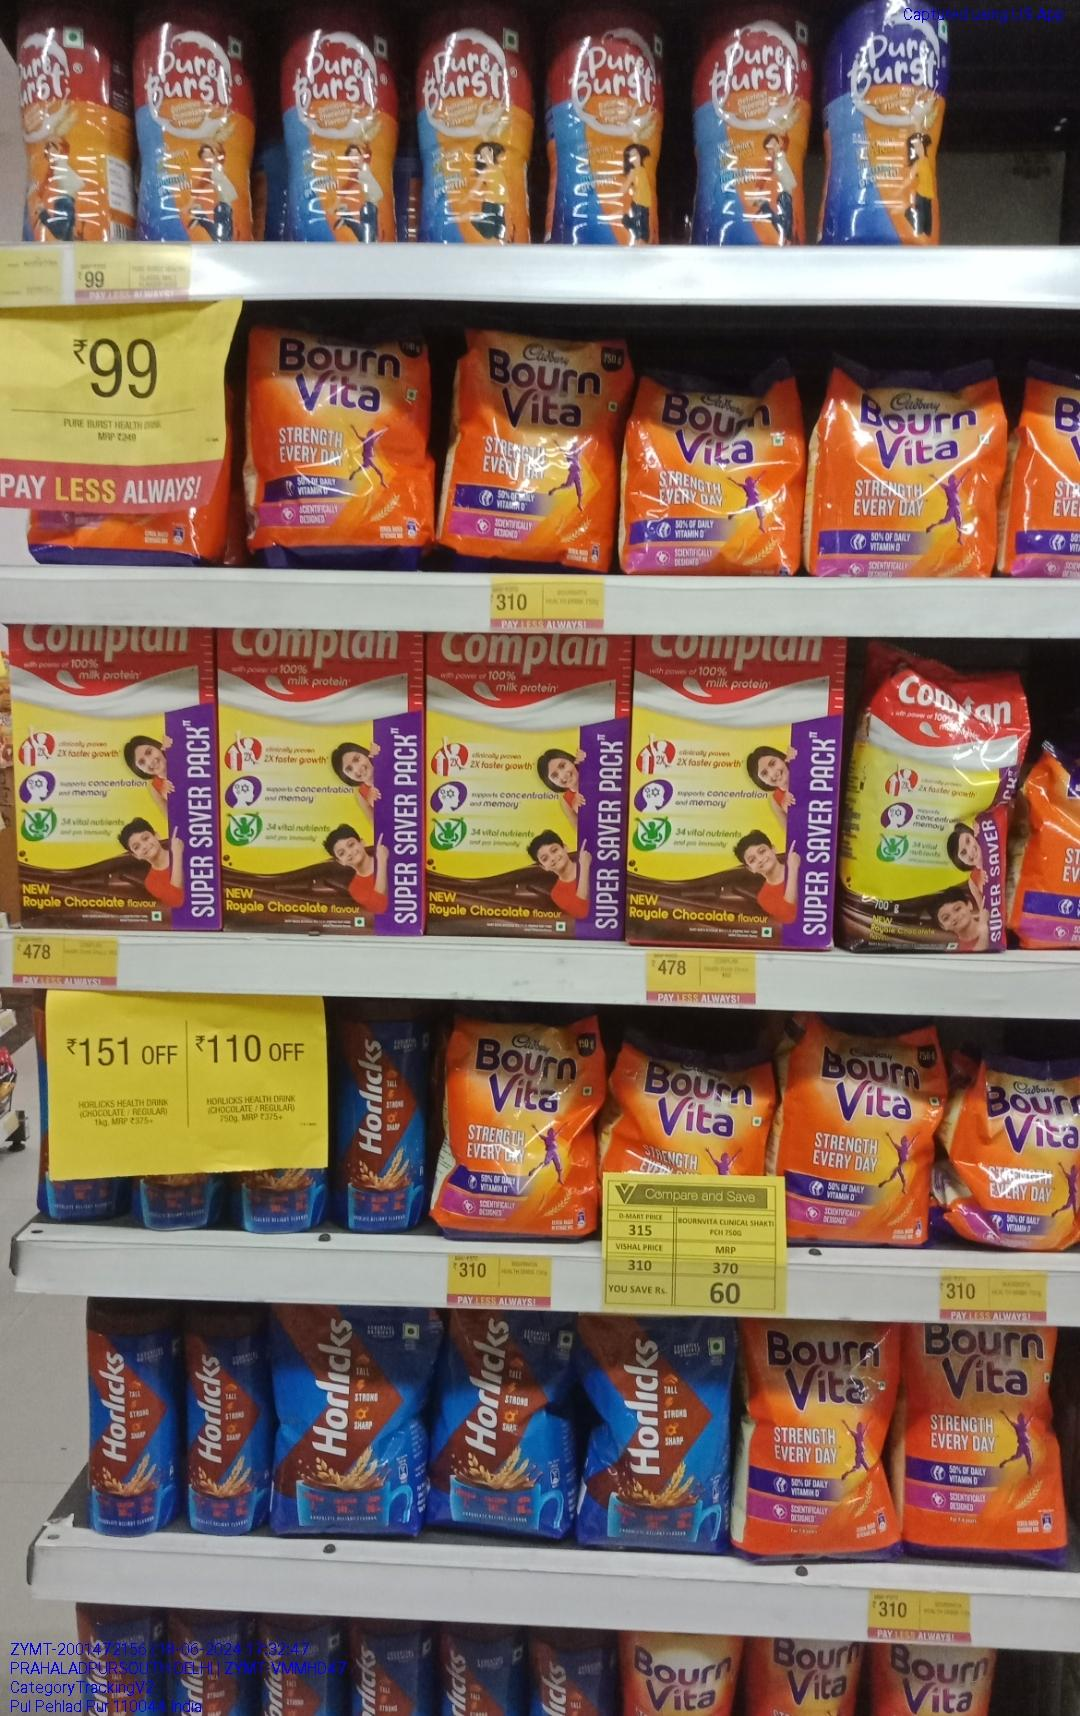BOURN_VITA_1_KG_POUCH: (735, 1317, 901, 1560), (908, 1324, 1068, 1564)
BOURN_VITA_500_G_POUCH: (811, 350, 998, 575), (623, 355, 803, 580), (953, 1053, 1080, 1251), (605, 1025, 771, 1176)
BOURN_VITA_750_G_POUCH: (246, 310, 433, 566), (448, 311, 612, 569), (434, 1000, 594, 1239), (786, 1007, 934, 1246)
COMPLAN_CHOCOLATE_1_KG_PACK: (11, 622, 218, 926), (630, 641, 831, 948), (221, 630, 422, 933), (427, 636, 623, 940)
COMPLAN_RC_POUCH_700_GMS_12: (846, 667, 1019, 952)
HORLICK_CHOCOLATE_500_G_JAR: (86, 1299, 179, 1534), (332, 1000, 424, 1232), (184, 1302, 270, 1534)
HORLICK_CHOCOLATE_750_G_POUCH: (575, 1313, 729, 1553), (275, 1300, 422, 1537), (433, 1308, 569, 1544)
